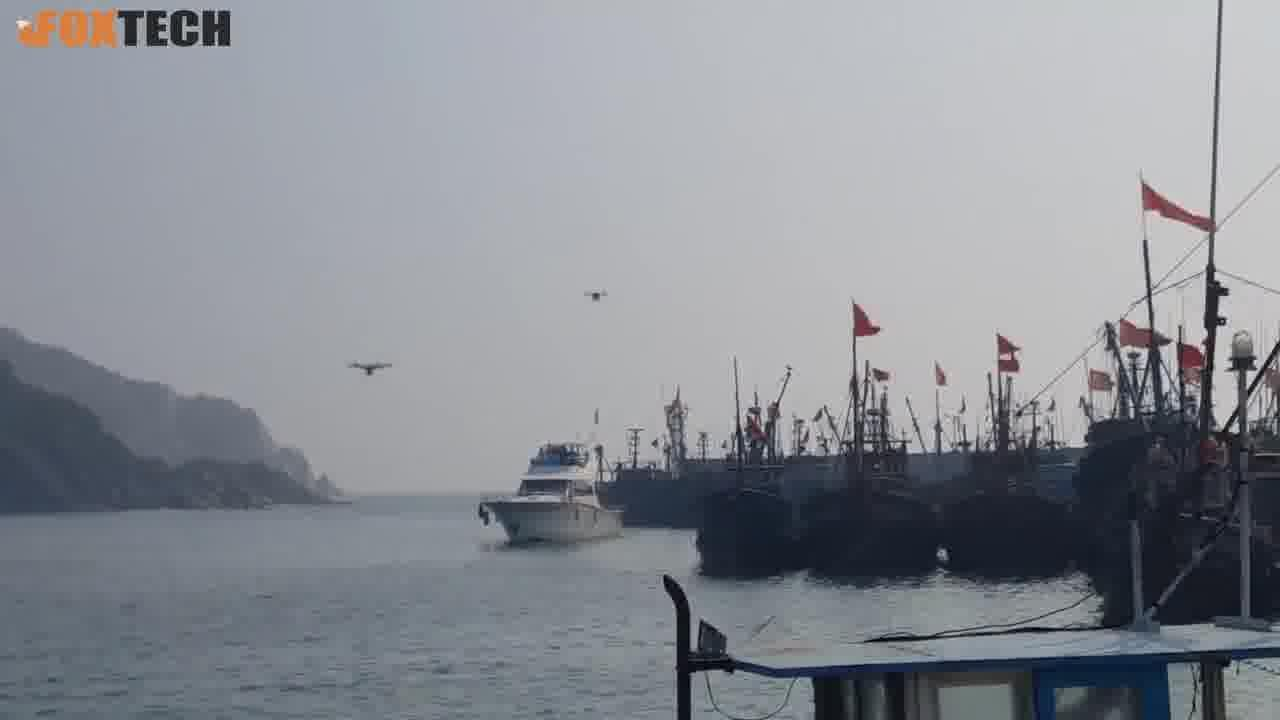drone: (341, 354, 402, 383)
